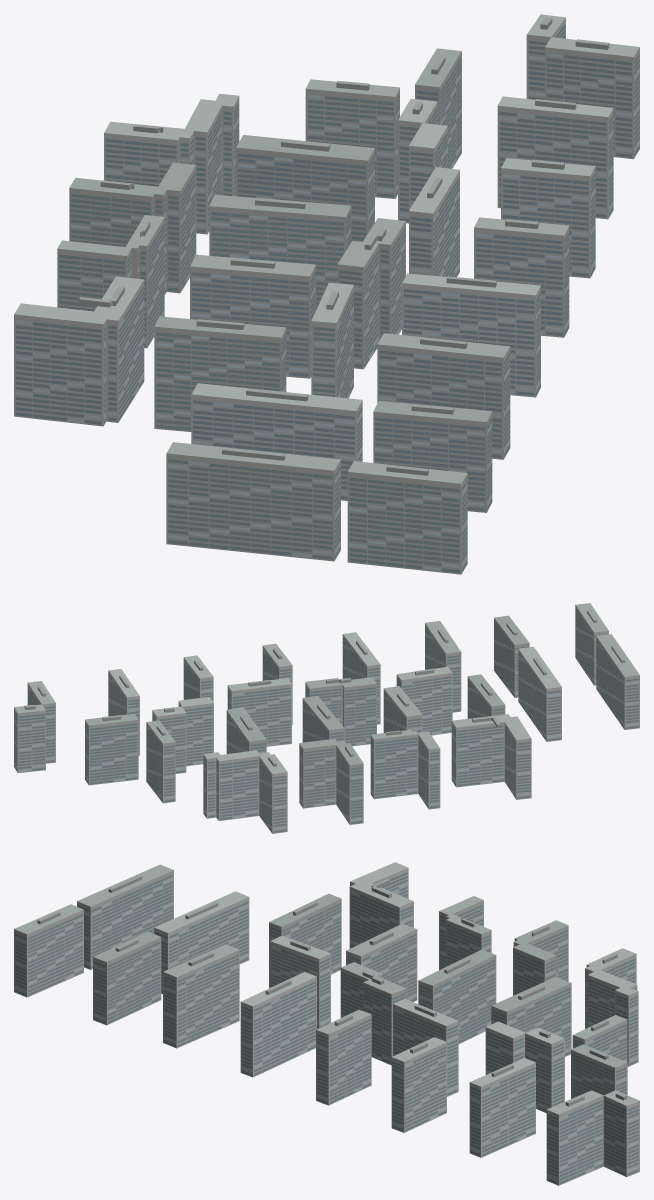
File: apt-a15303205.glb
3 views of the same model, one above another, from view 1: azimuth 30°, elevation 25°; view 2: azimuth 150°, elevation 25°; view 3: azimuth 270°, elevation 25° (orthographic). The views are drawn at different scales.
Visible parts, largest first — view 1: apt-a15303205; view 2: apt-a15303205; view 3: apt-a15303205.
Part boxes in pixels (x1,y1,x2,y2): apt-a15303205: [14, 14, 639, 574]; apt-a15303205: [14, 603, 639, 833]; apt-a15303205: [14, 862, 639, 1185].
Size of the model in its own units: 401 by 54 by 411.
